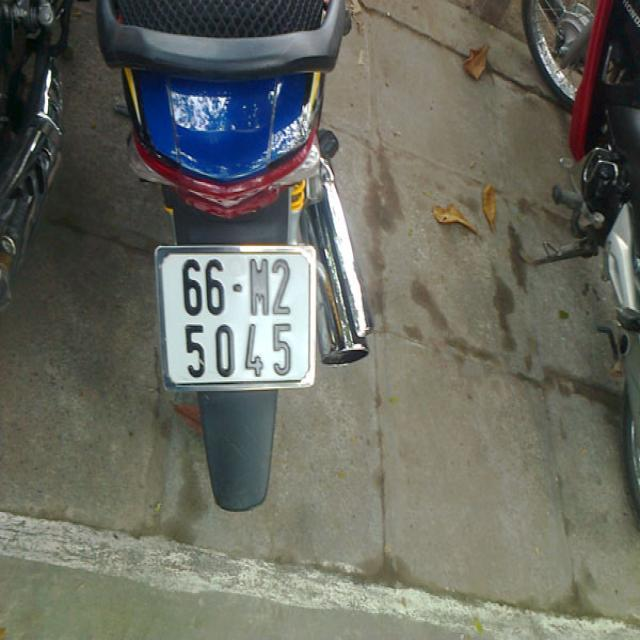bienxe: (155, 243, 322, 391)
